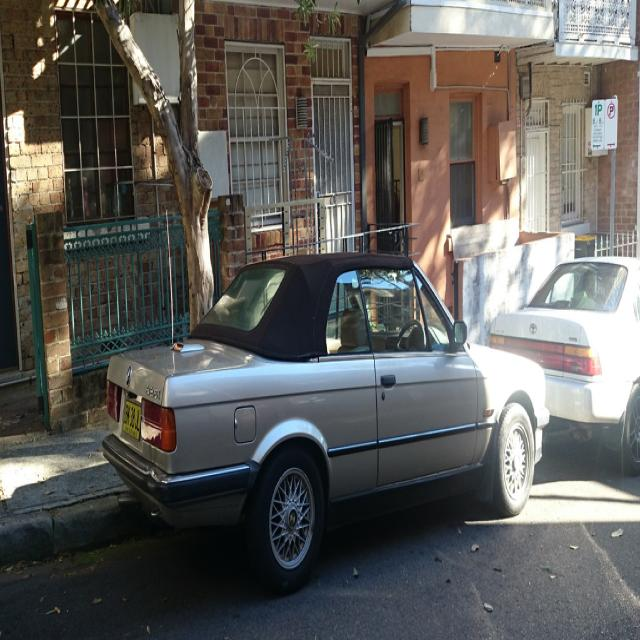car: (88, 241, 567, 578)
